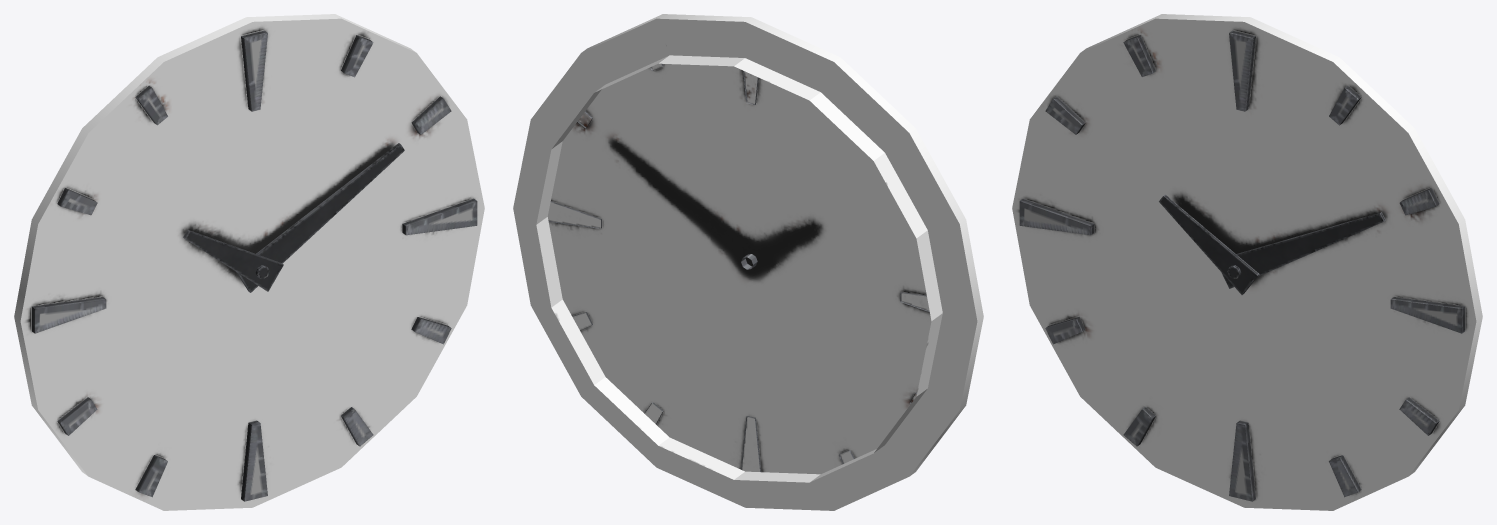
File: mesh_clock_01.FBX
3 views of the same model, side by side, from view 1: azimuth 30°, elevation 25°; view 2: azimuth 150°, elevation 25°; view 3: azimuth 330°, elevation 25° (orthographic).
Visible parts, largest first — view 1: mesh_clock_01; view 2: mesh_clock_01; view 3: mesh_clock_01.
Boxes of the visible parts, <box> form: mesh_clock_01: <box>14,14,484,510</box>; mesh_clock_01: <box>513,14,983,510</box>; mesh_clock_01: <box>1012,14,1482,510</box>.
Bounding box in the file's own units: 1.1 × 1.1 × 0.1177.
Materials: 1 (1 with a texture image).
